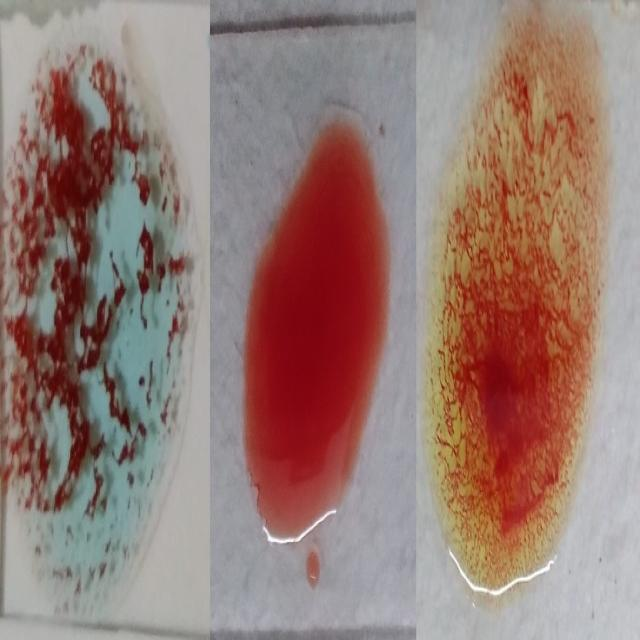A: (12, 34, 182, 611)
B: (433, 34, 610, 596)
